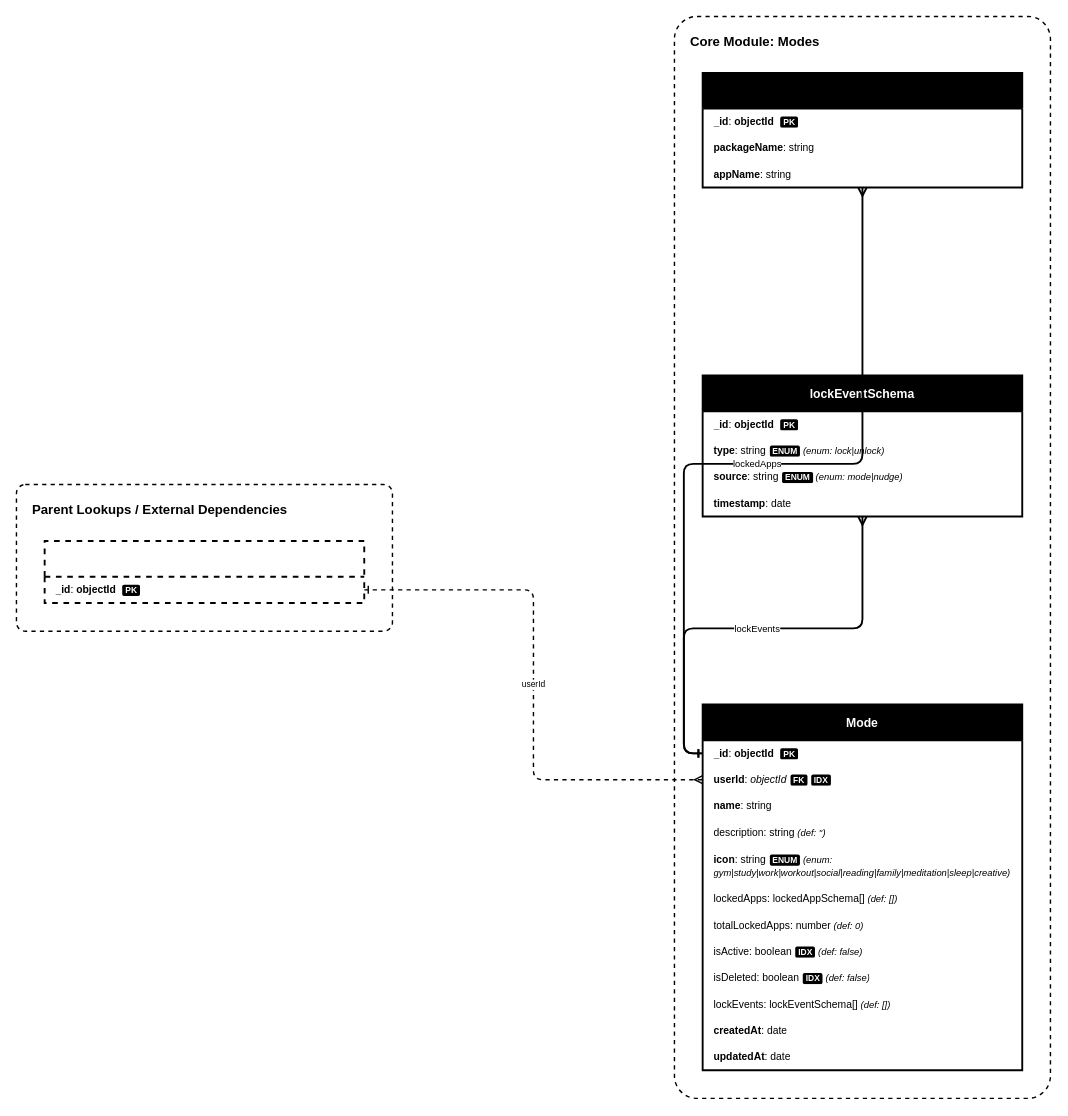
The diagram is 1068 pixels wide and 1116 high, and some of its shapes have lost their labels. The shapes that lost their labels are listed below. From the top down, each one's box as (x1, y1, x2, y2) in pixels, then its label:
(701, 71, 1023, 188): lockedAppSchema
(43, 540, 365, 603): User
